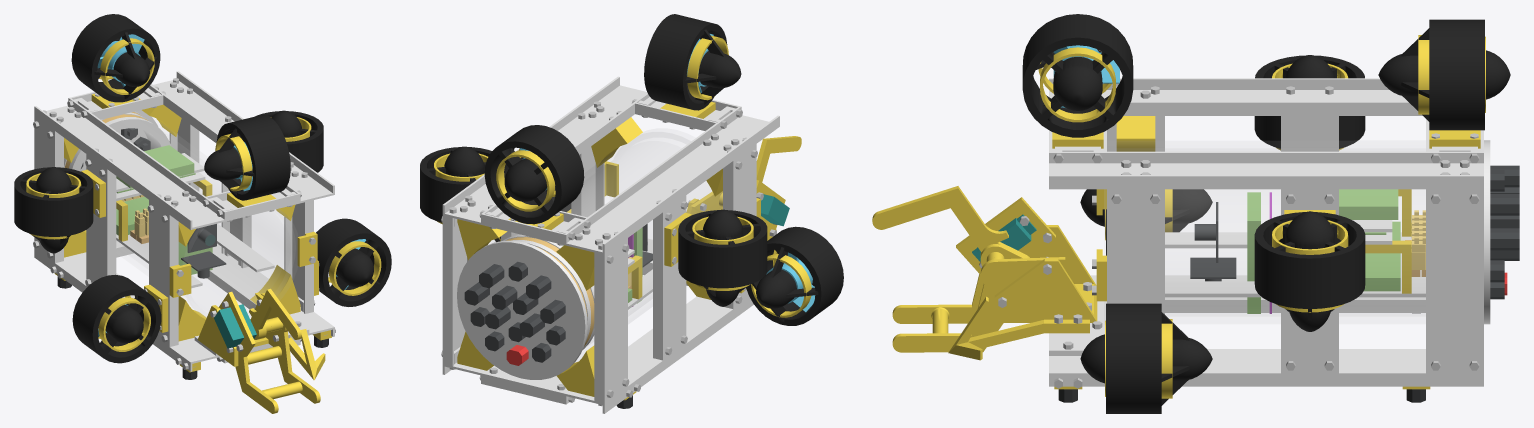
Rendered from rov22.glb.
The picture shows the model from 3 angles, left to right: view 1: azimuth 30°, elevation 25°; view 2: azimuth 150°, elevation 25°; view 3: azimuth 270°, elevation 25°; orthographic projection. The views are drawn at different scales.
Visible parts, largest first — view 1: Acrylic; view 2: Acrylic; view 3: Acrylic.
Boxes of the visible parts, x1,y1,x2,y2 form: Acrylic: [14, 14, 391, 413]; Acrylic: [420, 14, 843, 413]; Acrylic: [872, 14, 1519, 413].
Size of the model in its own units: 0.3979 by 0.3005 by 0.5354.
